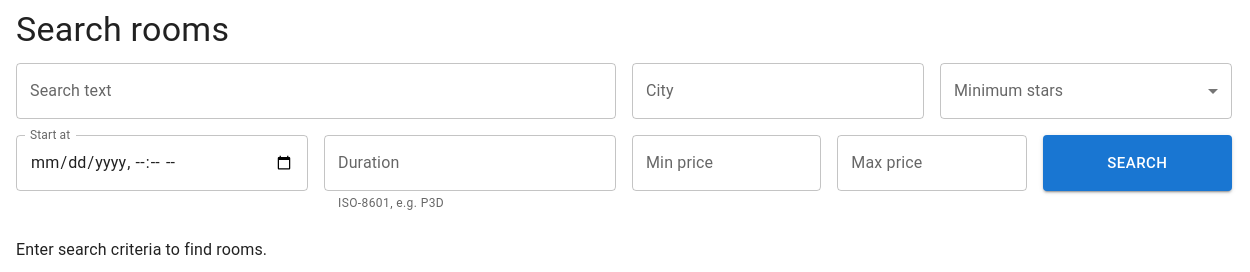
Test: SearchRoomsScreen › does not send an incomplete duration and flags it
Type "P" into the field labelled "Duration" at (470, 163), box [324,135,616,191]
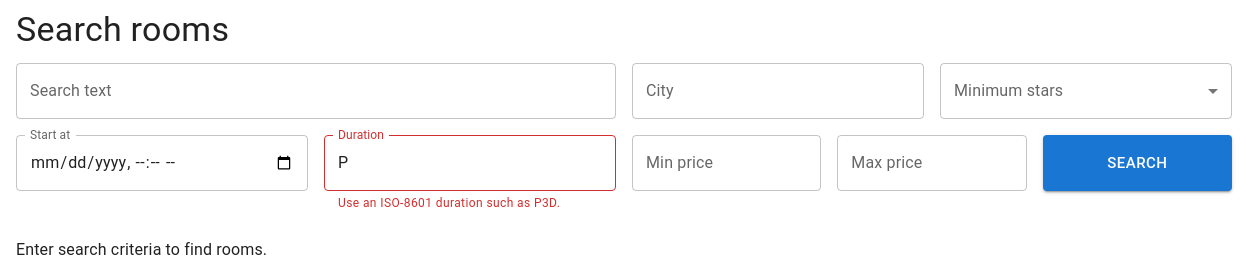
Check: the text "Use an ISO-8601 duration such as P3D." is shown, box [338,196,560,210]
